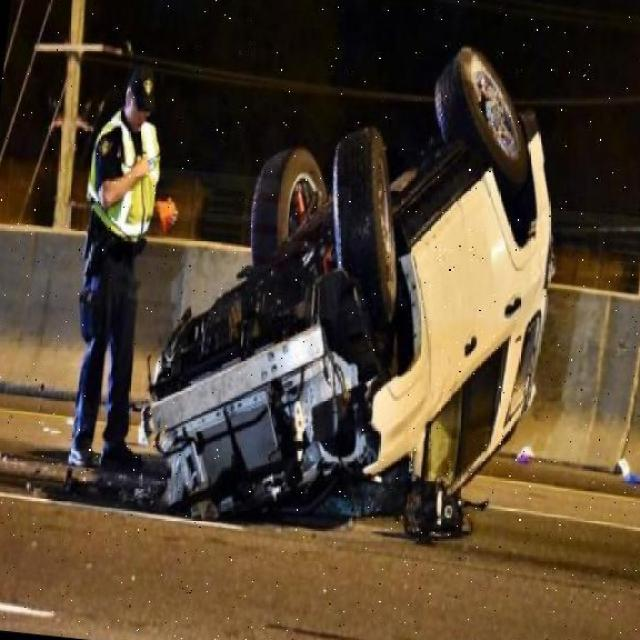accident: (129, 16, 580, 572)
